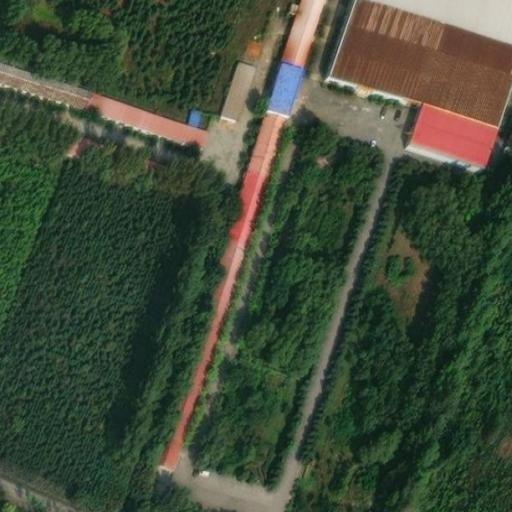building: (153, 102, 286, 461), (0, 53, 214, 145), (266, 0, 326, 110), (222, 52, 259, 112), (63, 127, 101, 165)
